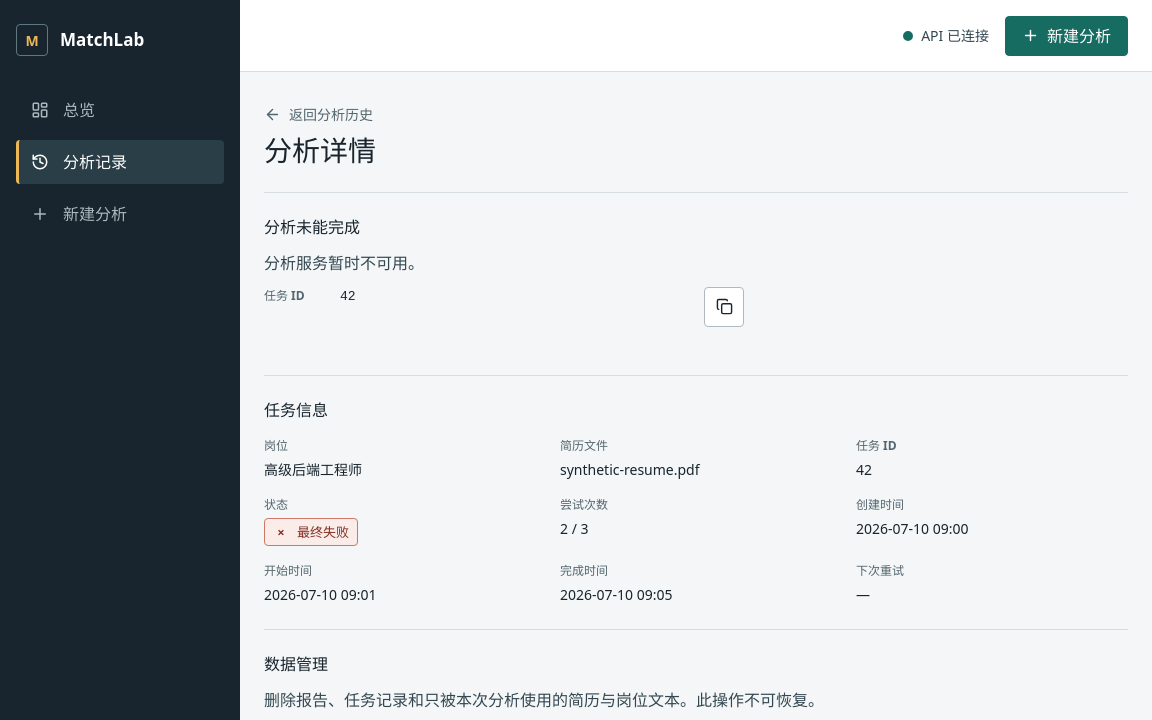
Test case: announces safely when the Clipboard API is unavailable
The image size is (1152, 720).
Click the button named "复制任务 ID" at (724, 307), box [704,287,744,327]
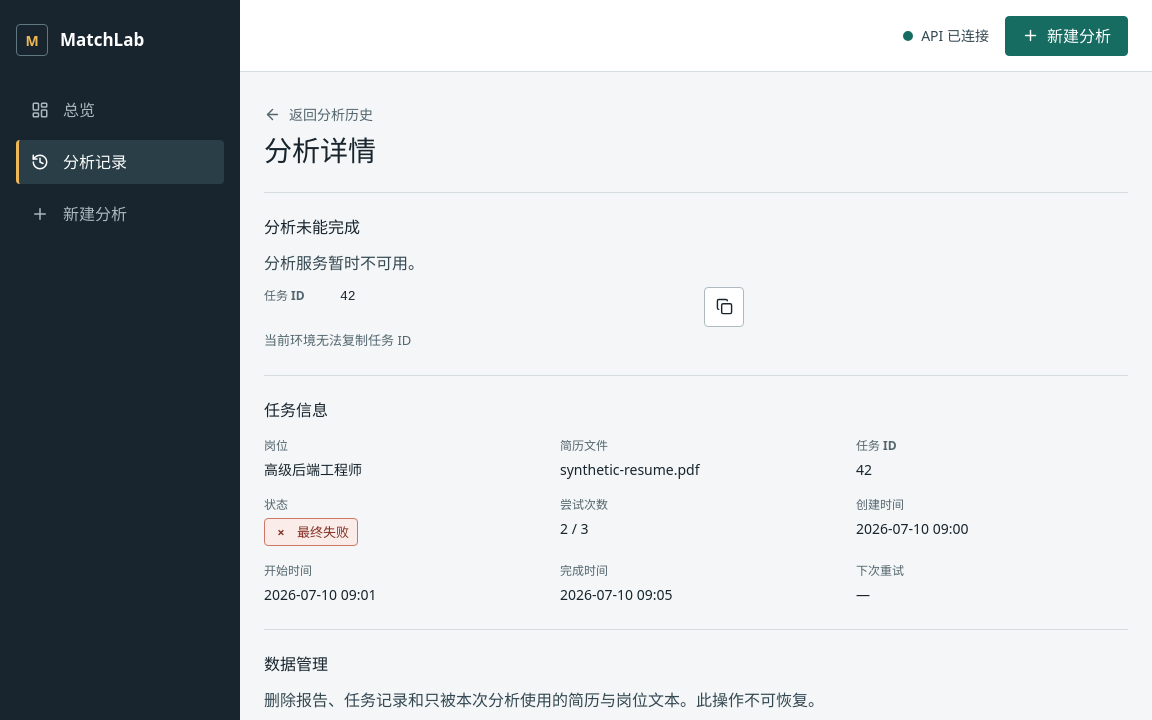
Check: the text "当前环境无法复制任务 ID" is shown, box [264,331,411,349]
